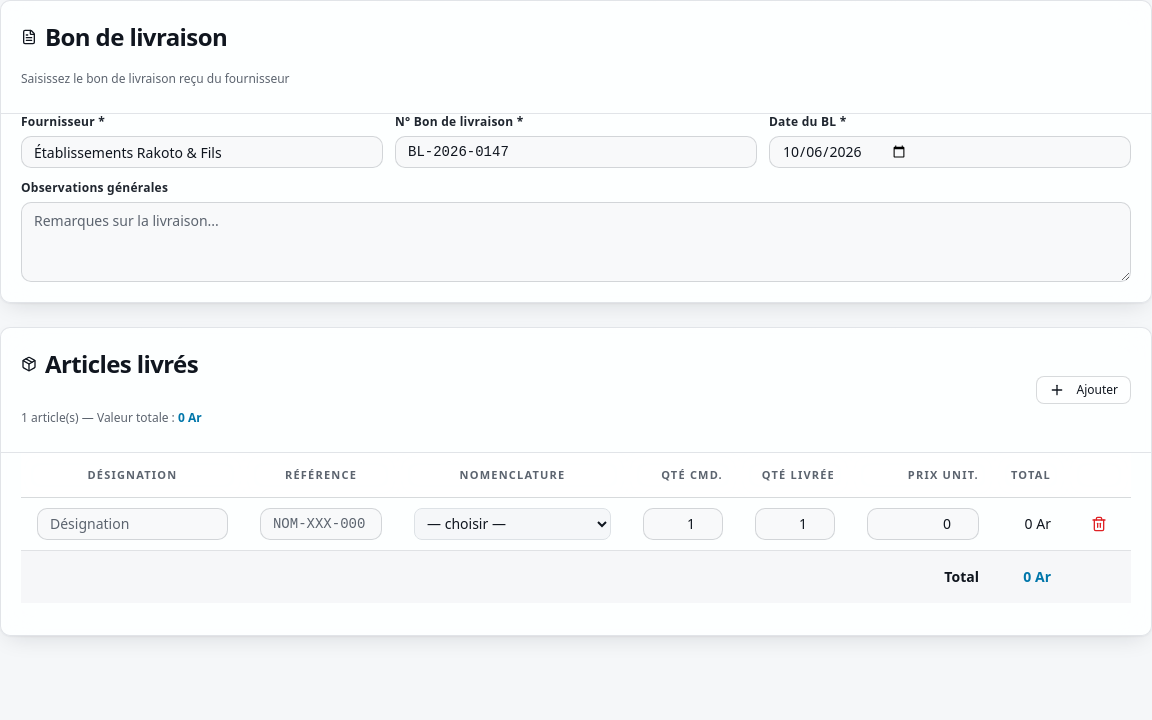
Test: Saisie étape 1 — rapprochement fiable de la désignation › 2. confirmer le rapprochement rattache la ligne au matériel existant dans le payload
The width and height of the screenshot is (1152, 720).
Step 1. Type "Routeur Cisco RV 340" into the field with placeholder "Désignation" → [132, 524], box [37,508,228,540]
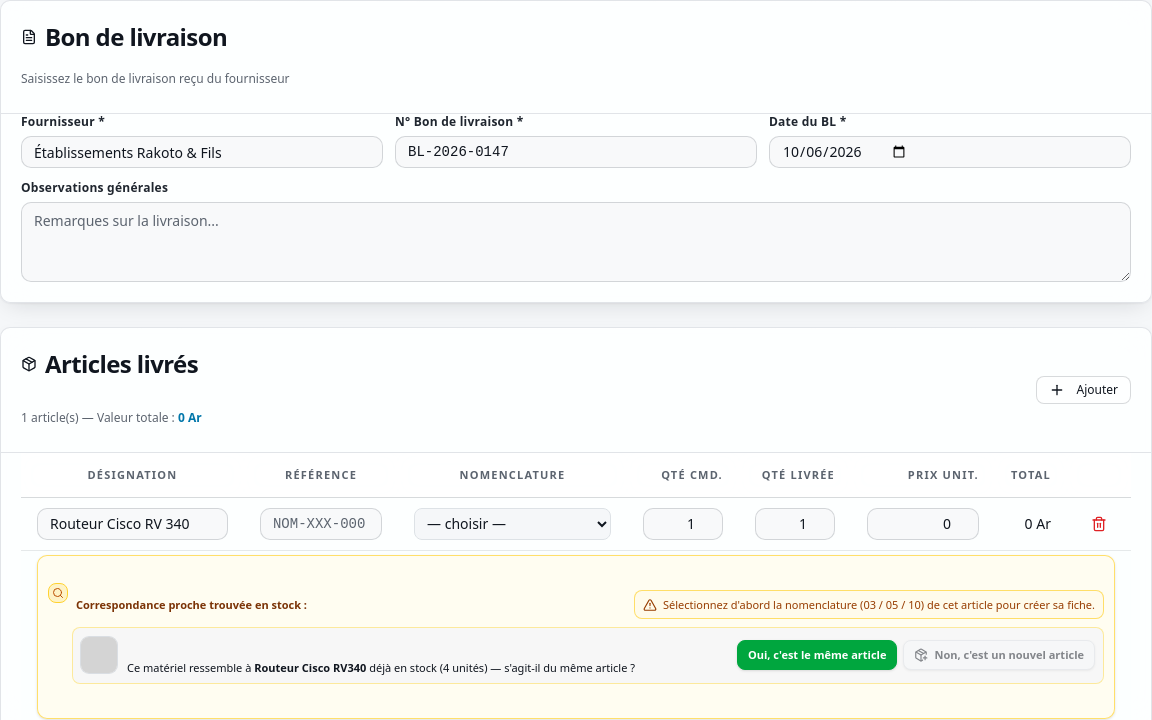
expect the button "Oui, c'est le même article" is shown: met
Step 2. Click the button "Oui, c'est le même article" → [817, 655], box [737,640,897,670]
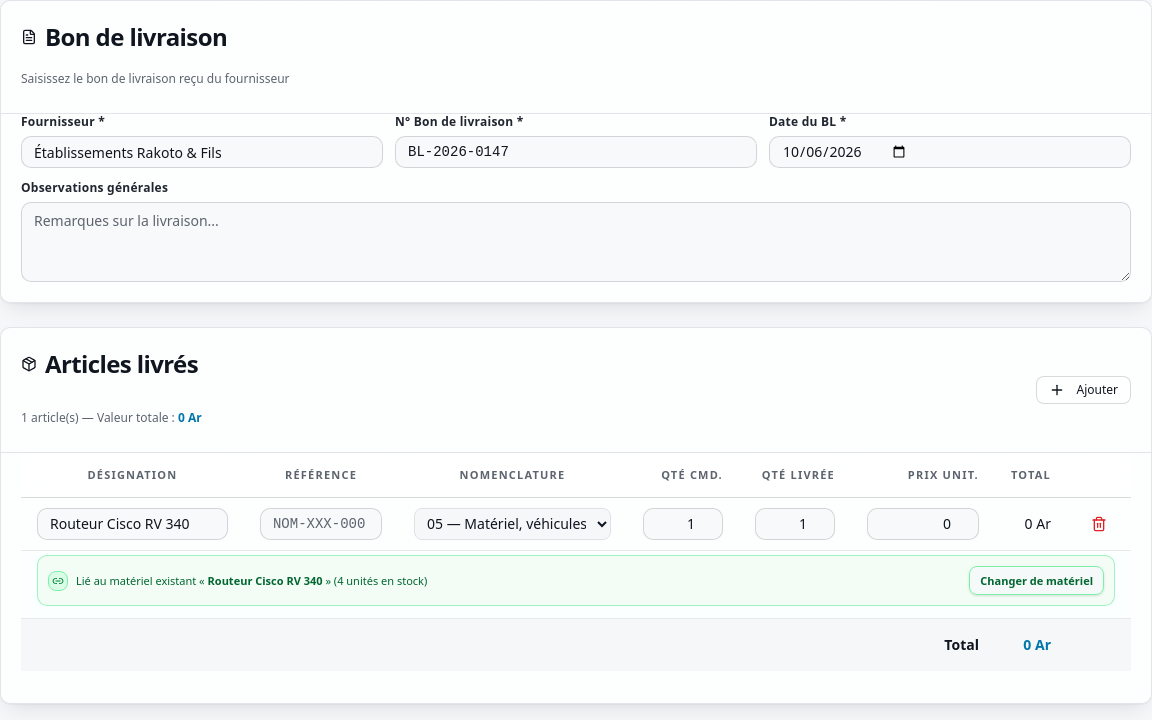
expect the element with test id "rapprochement-lie-art-1" is shown: met, box [37,554,1115,606]
expect the text "Lié au matériel existant" is shown: met, box [76,573,205,588]
expect the text "Routeur Cisco RV 340" is shown: met, box [208,573,323,588]
